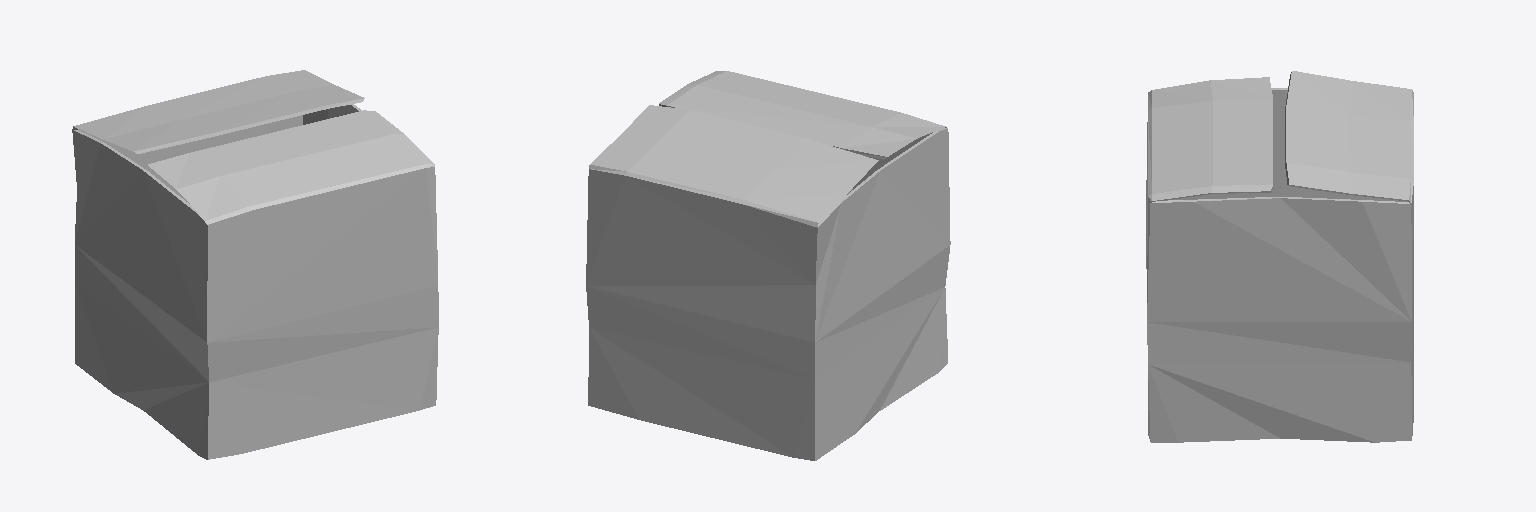
Rendered from cardboard_box_2_1.obj.
3 views of the same model, side by side, from view 1: azimuth 30°, elevation 25°; view 2: azimuth 150°, elevation 25°; view 3: azimuth 270°, elevation 25° (orthographic).
Parts seen in each view (by area): view 1: cardboard_box_2_1; view 2: cardboard_box_2_1; view 3: cardboard_box_2_1.
Part boxes in pixels (x1,y1,x2,y2): cardboard_box_2_1: (72,70,438,459); cardboard_box_2_1: (586,71,950,460); cardboard_box_2_1: (1146,71,1413,442).
Bounding box in the file's own units: 0.7297 × 0.7775 × 0.7254.